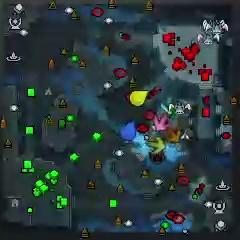p1: (120, 121, 137, 140)
p4: (130, 90, 150, 106)
x1: (154, 113, 169, 131)
x2: (147, 137, 164, 152)
x3: (160, 97, 177, 115)
x5: (165, 127, 182, 143)
